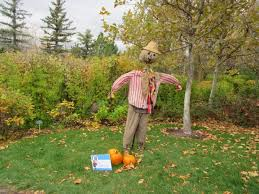person-like: (108, 39, 183, 154)
